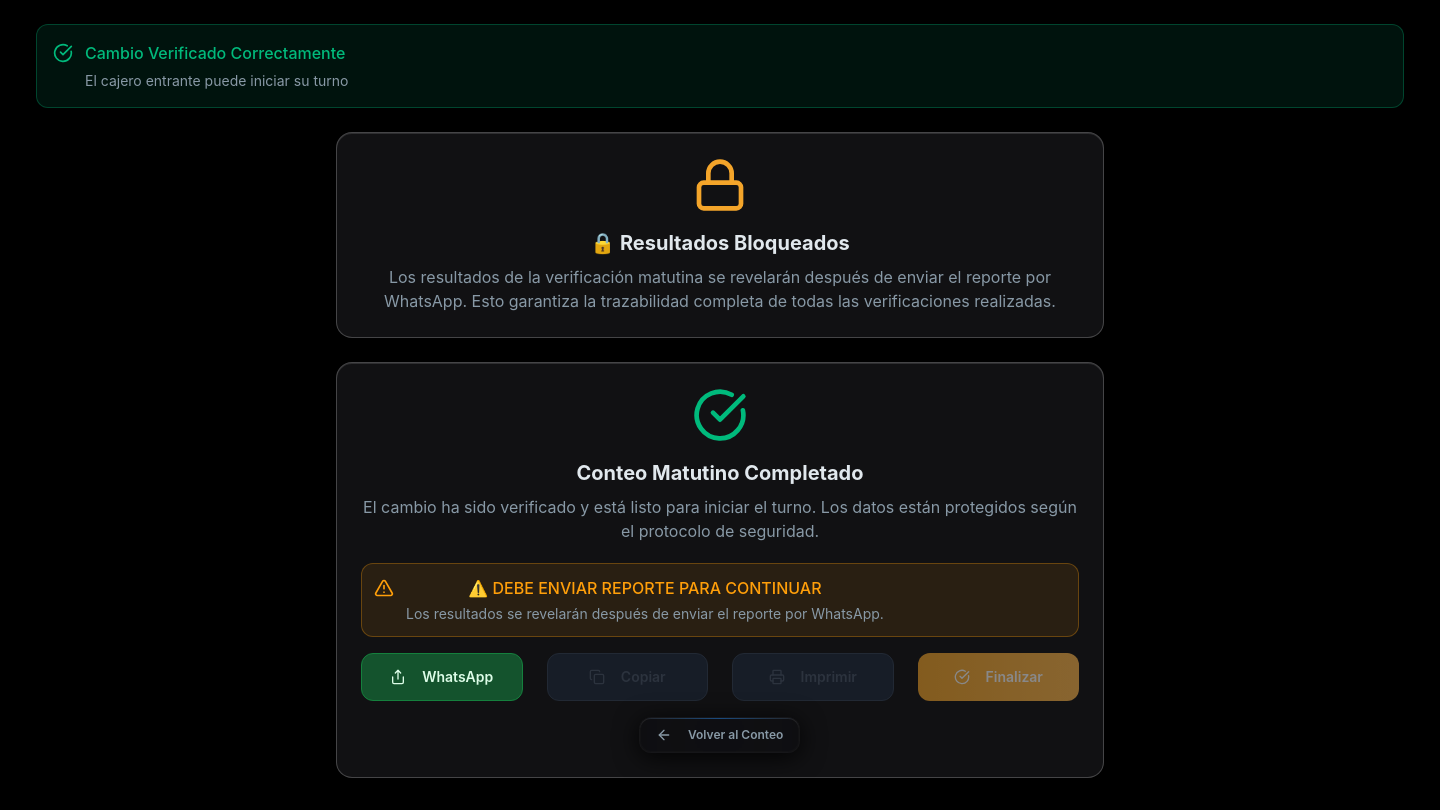
Test: MorningVerification - v1.3.7 WhatsApp Confirmation Flow › Grupo 3: Pop-up bloqueado › 3.1 - Si window.open retorna null, debe detectar bloqueo de pop-up
Click the button "WhatsApp". click: (442, 677)
box: [361, 653, 522, 701]
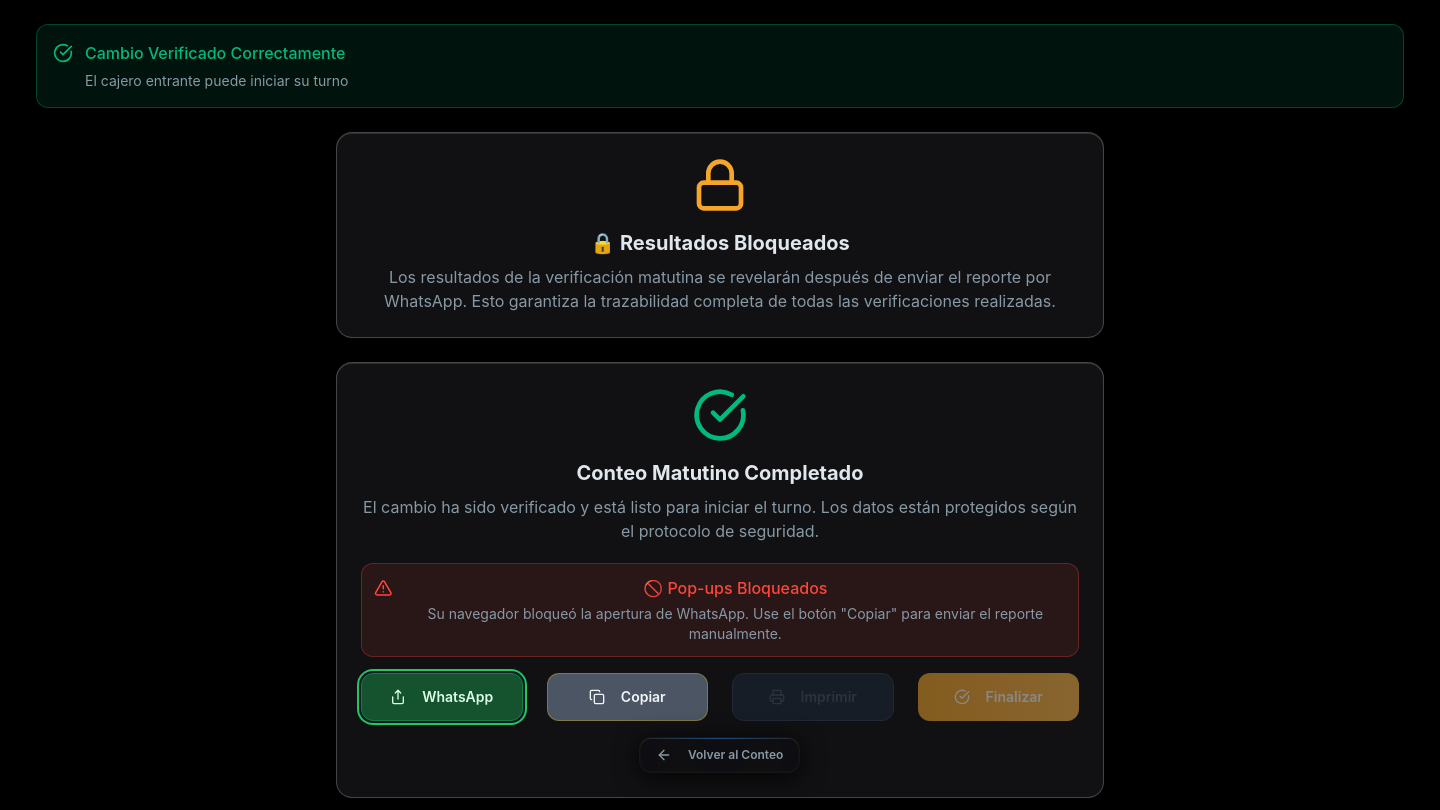
Expected: the text "🚫 Pop-ups Bloqueados" is shown, [643, 578, 827, 598]
